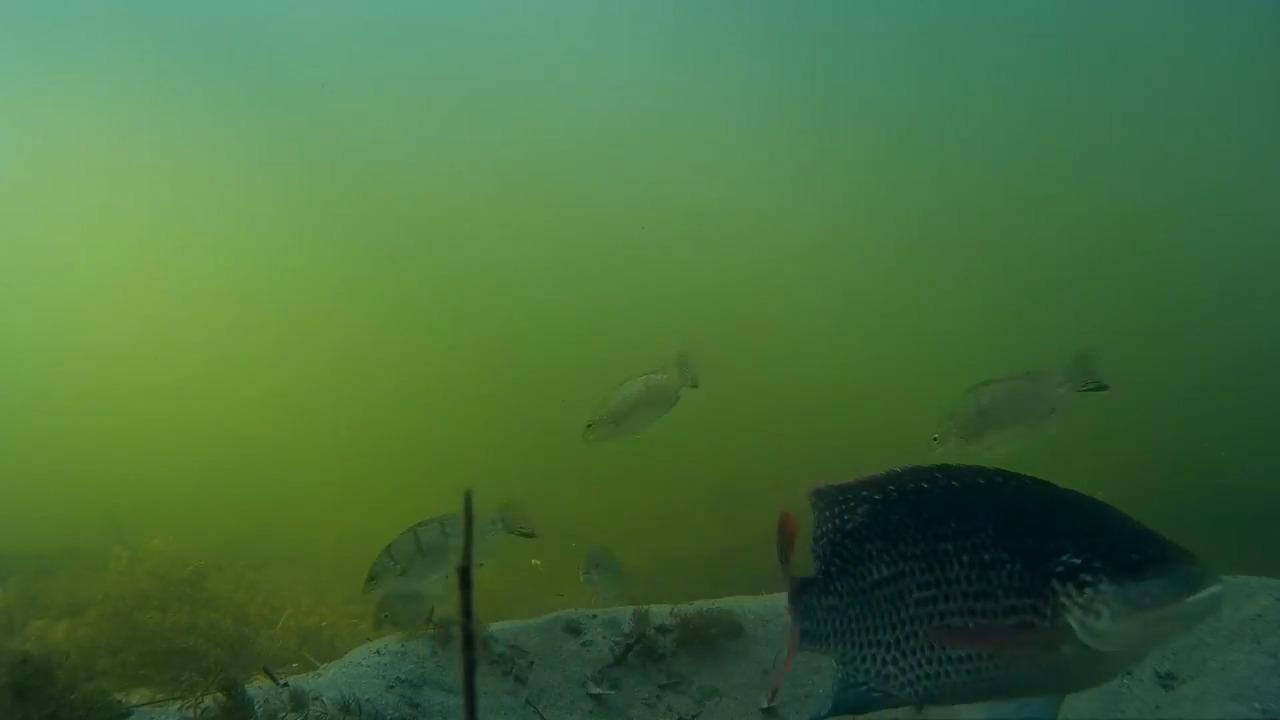Tilapia: (750, 462, 1243, 720), (923, 346, 1116, 452), (332, 496, 537, 594), (585, 346, 702, 448)
